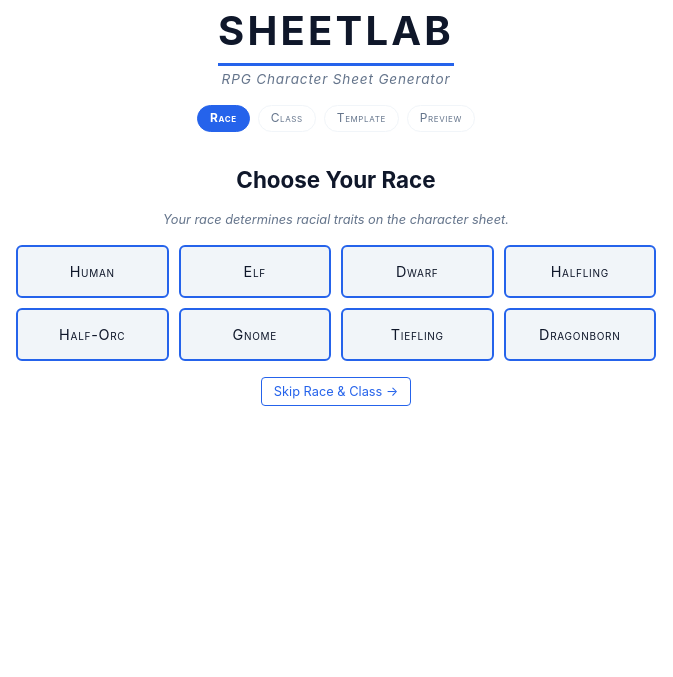
Wizard › review step displays chosen race, class, and template
Click the button "Elf" at (255, 272), box 178,245 -> 331,298
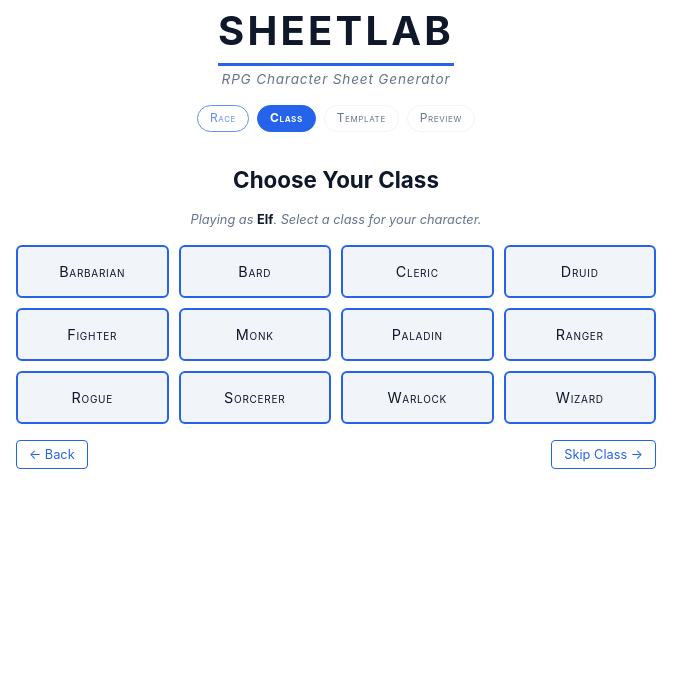
Click the button "Wizard" at (580, 398), box 504,371 -> 656,424
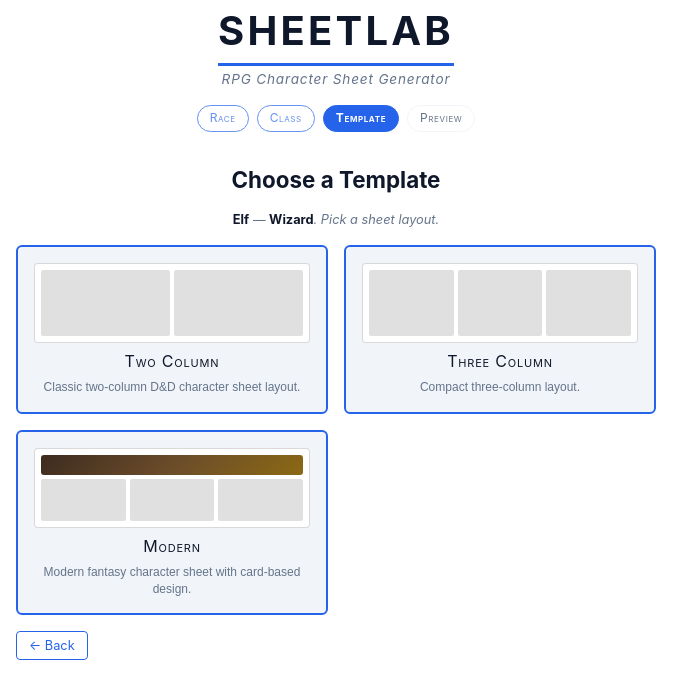
Click the button with aria-label "select modern template" at (172, 523), box 16,430 -> 328,616
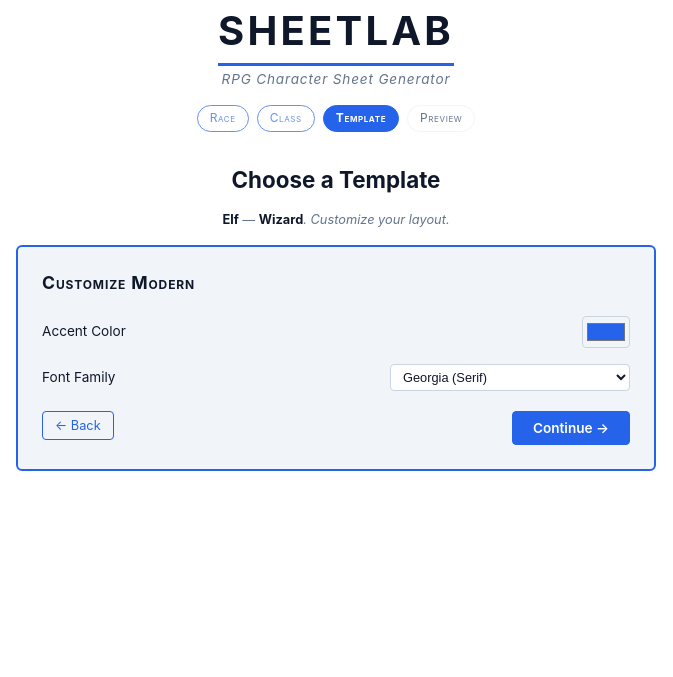
Click the button "Continue →" at (571, 428), box 512,411 -> 630,445
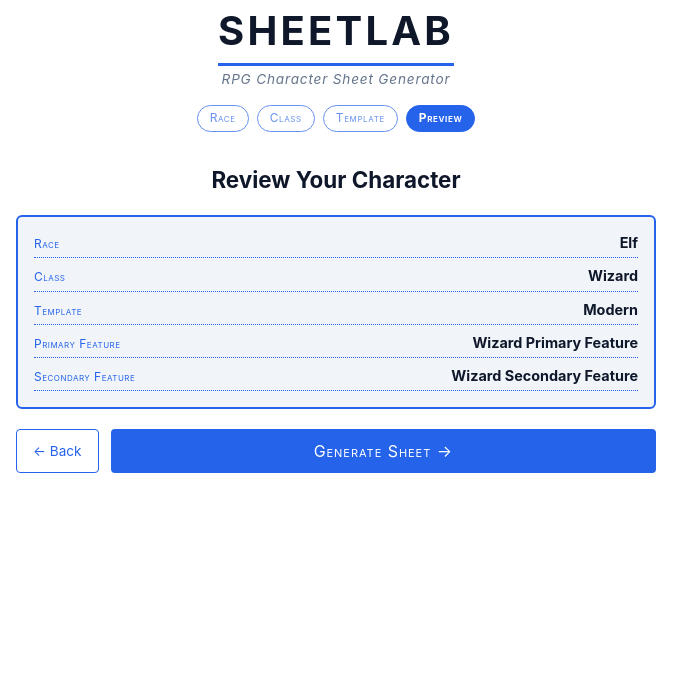
Expected: the text "Elf" is shown, 620,233 -> 638,253
Expected: the text "Wizard" is shown, 588,266 -> 638,286
